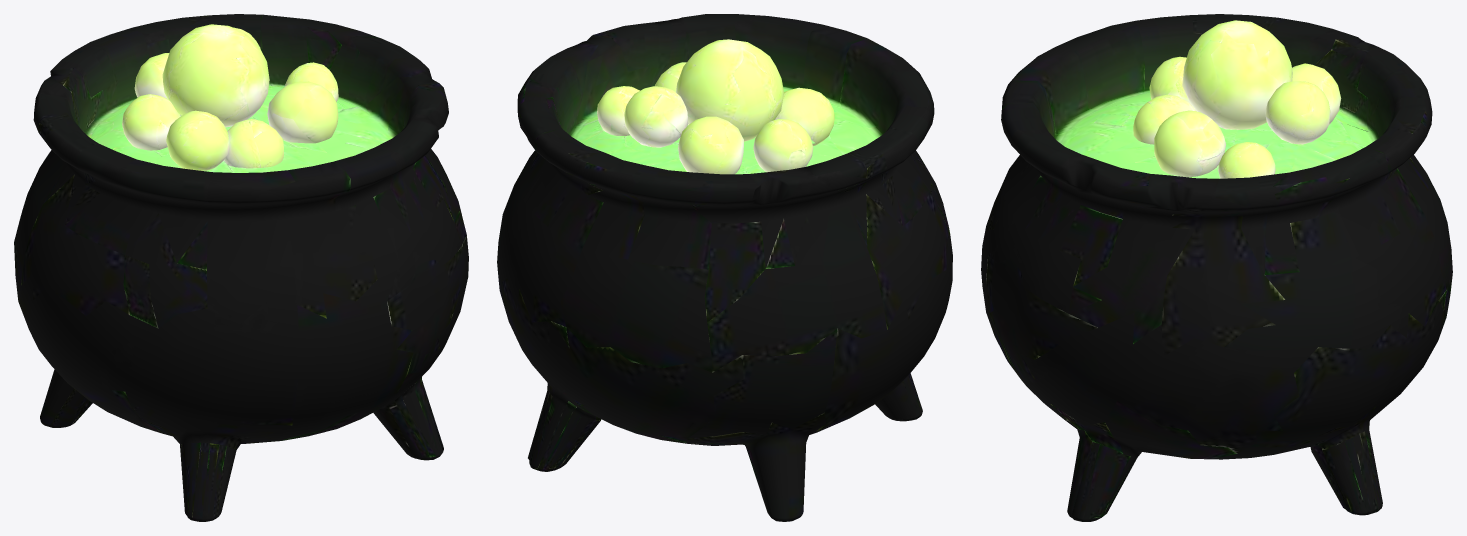
File: prop_cauldron.glb
3 renders of one model, left to right at view 1: azimuth 30°, elevation 25°; view 2: azimuth 150°, elevation 25°; view 3: azimuth 270°, elevation 25°, orthographic. The views are drawn at different scales.
Parts seen in each view (by area): view 1: prop_cauldron; view 2: prop_cauldron; view 3: prop_cauldron.
Boxes of the visible parts, x1,y1,x2,y2 form: prop_cauldron: (14, 14, 468, 521); prop_cauldron: (497, 14, 952, 521); prop_cauldron: (981, 14, 1452, 521).
Bounding box in the file's own units: 1.83 × 1.8 × 1.83.
Materials: 1 (1 with a texture image).
